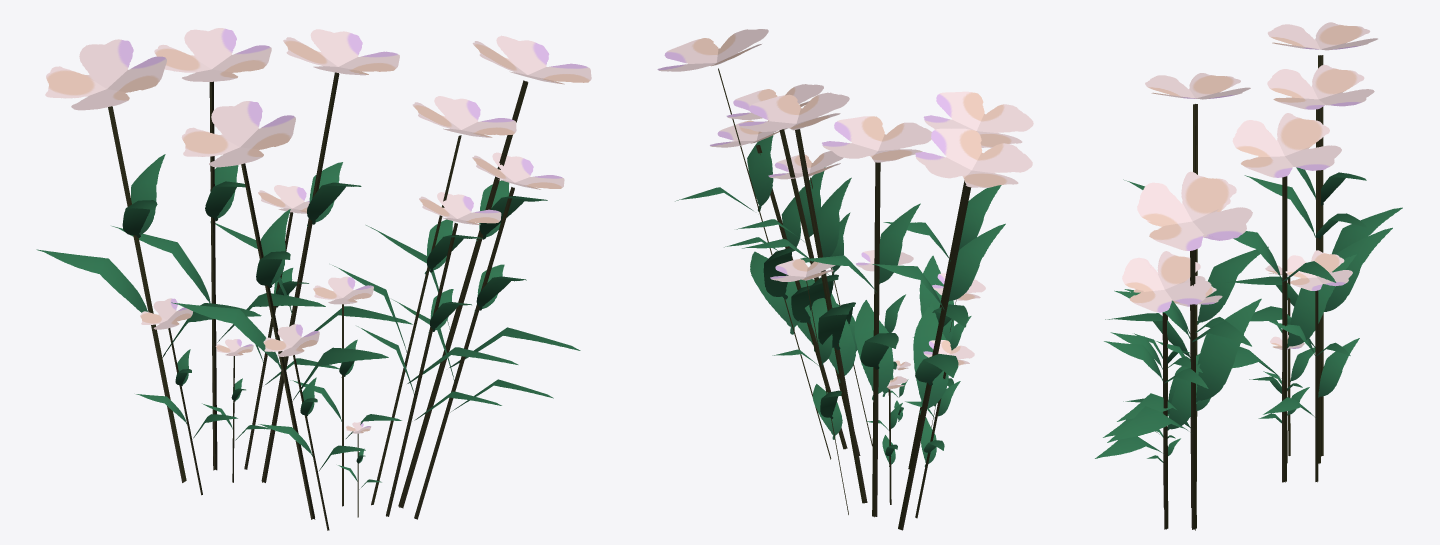
The model's file is SM_Flower02.fbx.
3 renders of one model, left to right at view 1: azimuth 30°, elevation 25°; view 2: azimuth 150°, elevation 25°; view 3: azimuth 270°, elevation 25°, orthographic. The views are drawn at different scales.
Parts seen in each view (by area): view 1: SM_Flowers02; view 2: SM_Flowers02; view 3: SM_Flowers02.
Boxes of the visible parts, x1,y1,x2,y2 form: SM_Flowers02: (36,28,591,530); SM_Flowers02: (657,29,1033,530); SM_Flowers02: (1095,22,1402,530).
Bounding box in the file's own units: 77.61 × 68.24 × 52.55.
